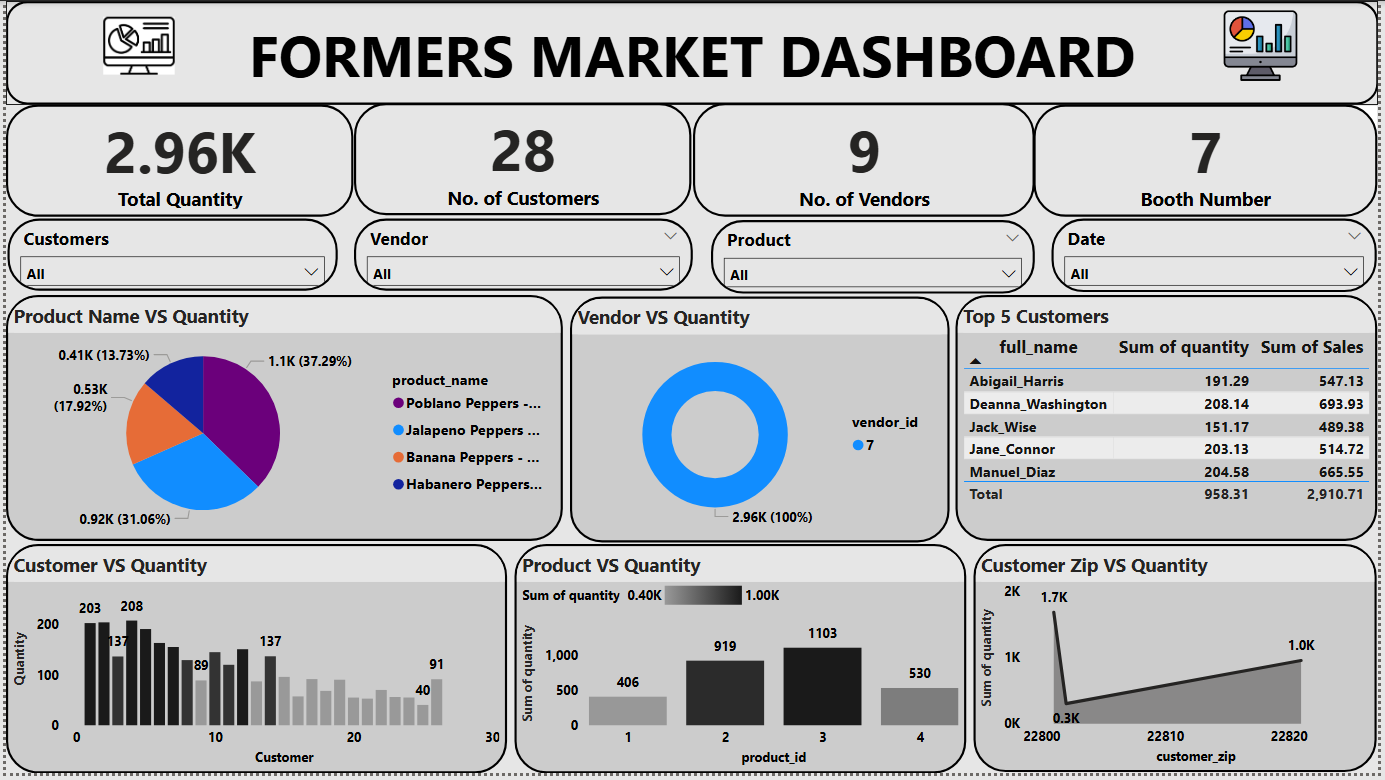

The page's visual inventory and layout, read from the dashboard file:
{"tool":"powerbi","page":{"name":"Quantity wise Analysis","canvas":[1280,720],"ordinal":0},"visuals":[{"type":"columnChart","title":"Customer VS Quantity","fields":{"Category":["customer_purchases.customer_id"],"Y":["customer_purchases.quantity"]},"box":[0,506.4,467.3,214],"z":0},{"type":"clusteredColumnChart","title":"Product VS Quantity","fields":{"Category":["product.product_id"],"Y":["customer_purchases.quantity"]},"box":[474.3,506,421.1,214],"z":1000},{"type":"pieChart","title":"Product Name VS Quantity","fields":{"Category":["product.product_name"],"Y":["customer_purchases.quantity"]},"box":[0,274.2,519,229.4],"z":2000},{"type":"donutChart","title":"Vendor VS Quantity","fields":{"Category":["vendor.vendor_id"],"Y":["customer_purchases.quantity"]},"box":[526,275.6,353.9,229.4],"z":3000},{"type":"textbox","box":[0,0,1280.1,96.5],"z":4000},{"type":"image","box":[84.8,0,77.2,83.3],"z":5000},{"type":"image","box":[1129.6,0,81.8,83.3],"z":6000},{"type":"card","fields":{"Values":["customer_purchases.quantity"]},"box":[0,96.9,324,104.5],"z":7000},{"type":"card","fields":{"Values":["customer.customer_id"]},"box":[324.6,95.1,314.8,104.9],"z":8000},{"type":"card","fields":{"Values":["vendor.vendor_id"]},"box":[640.7,95.1,319,106.3],"z":9000},{"type":"card","fields":{"Values":["vendor_booth_assignments.booth_number"]},"box":[958.3,96.5,320.4,104.9],"z":10000},{"type":"tableEx","title":"Top 5 Customers","fields":{"Values":["customer.full_name","customer_purchases.quantity","customer_purchases.Sales"]},"box":[885.6,274.2,393.1,229.4],"z":11000},{"type":"areaChart","title":"Customer Zip VS Quantity","fields":{"Category":["customer.customer_zip"],"Y":["customer_purchases.quantity"]},"box":[902.3,506.4,376.3,212.6],"z":12000},{"type":"slicer","fields":{"Values":["customer.customer_id"]},"box":[1.4,202.9,307.8,67.2],"z":12001},{"type":"slicer","fields":{"Values":["vendor.vendor_id"]},"box":[324.6,202.9,316.2,67.2],"z":12002},{"type":"slicer","fields":{"Values":["product.product_id"]},"box":[657.5,204.3,302.2,68.6],"z":12003},{"type":"slicer","fields":{"Values":["market_date_info.market_date"]},"box":[975.1,202.9,303.6,68.6],"z":12004}]}

Visuals, with their boxes in screenshot pixels (x1, y1, x2, y2), scaled from the page's 1280x720 canvas onto the 1385x780 screenshot:
"Customer VS Quantity" columnChart: 0 549 506 779
"Product VS Quantity" clusteredColumnChart: 513 548 969 779
"Product Name VS Quantity" pieChart: 0 297 562 546
"Vendor VS Quantity" donutChart: 569 299 952 547
textbox: 0 0 1384 105
image: 92 0 175 90
image: 1222 0 1311 90
card - customer_purchases.quantity: 0 105 351 218
card - customer.customer_id: 351 103 692 217
card - vendor.vendor_id: 693 103 1038 218
card - vendor_booth_assignments.booth_number: 1037 105 1384 218
"Top 5 Customers" tableEx: 958 297 1384 546
"Customer Zip VS Quantity" areaChart: 976 549 1383 779
slicer - customer.customer_id: 2 220 335 293
slicer - vendor.vendor_id: 351 220 693 293
slicer - product.product_id: 711 221 1038 296
slicer - market_date_info.market_date: 1055 220 1384 294
